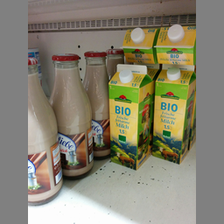milk: (48, 54, 96, 178), (27, 57, 63, 205), (107, 62, 152, 171), (153, 63, 191, 165), (84, 49, 110, 159)
